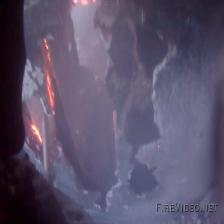fire: (26, 41, 71, 157)
